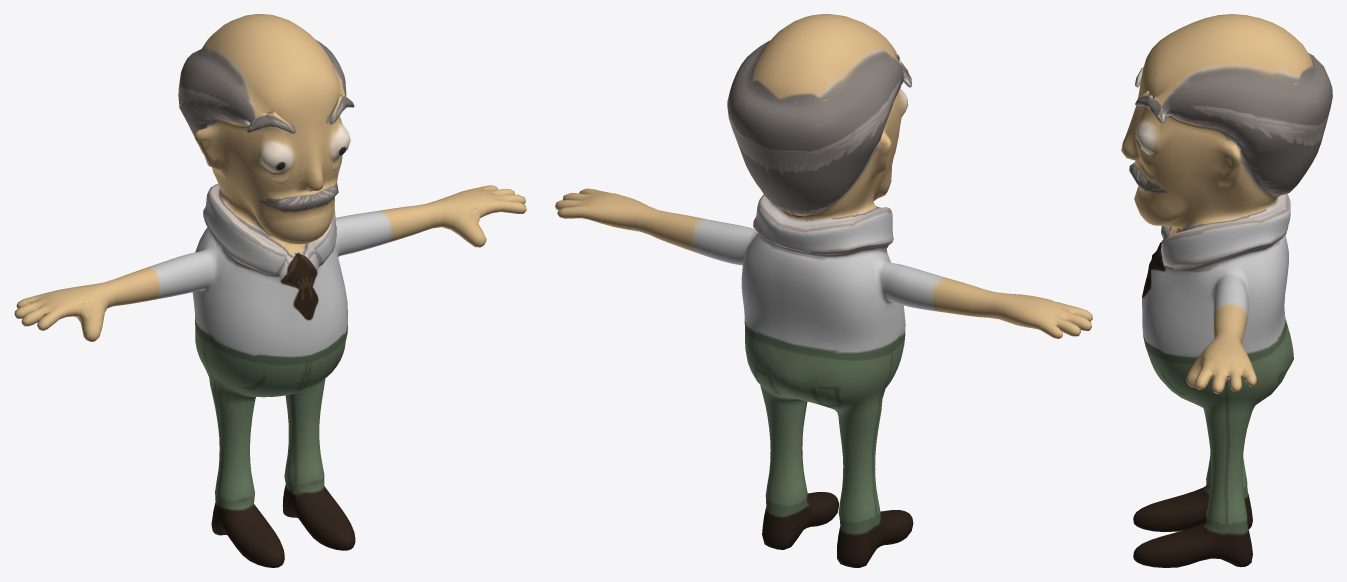
The model's file is padre.fbx.
The picture shows the model from 3 angles, left to right: view 1: azimuth 30°, elevation 25°; view 2: azimuth 150°, elevation 25°; view 3: azimuth 270°, elevation 25°; orthographic projection. The views are drawn at different scales.
Visible parts, largest first — view 1: Cube_028_002; view 2: Cube_028_002; view 3: Cube_028_002.
Boxes of the visible parts, x1,y1,x2,y2 form: Cube_028_002: (14, 14, 526, 567); Cube_028_002: (555, 14, 1092, 567); Cube_028_002: (1121, 14, 1332, 567).
Size of the model in its own units: 856 by 822 by 300.
